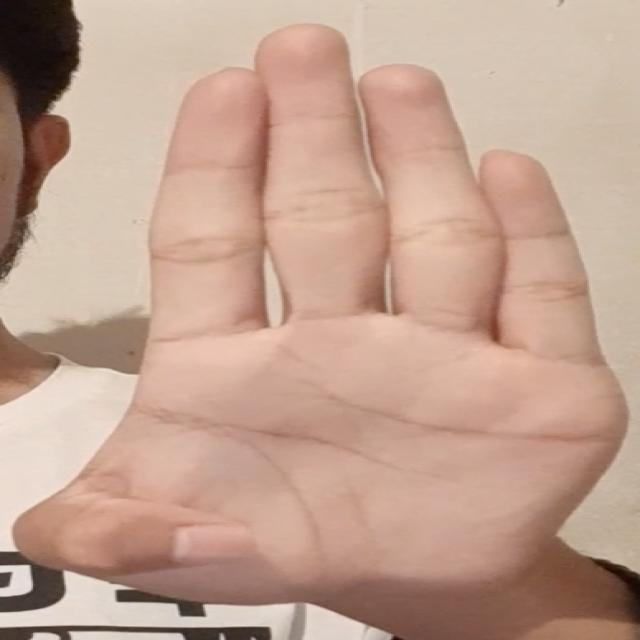B: (5, 16, 640, 624)
